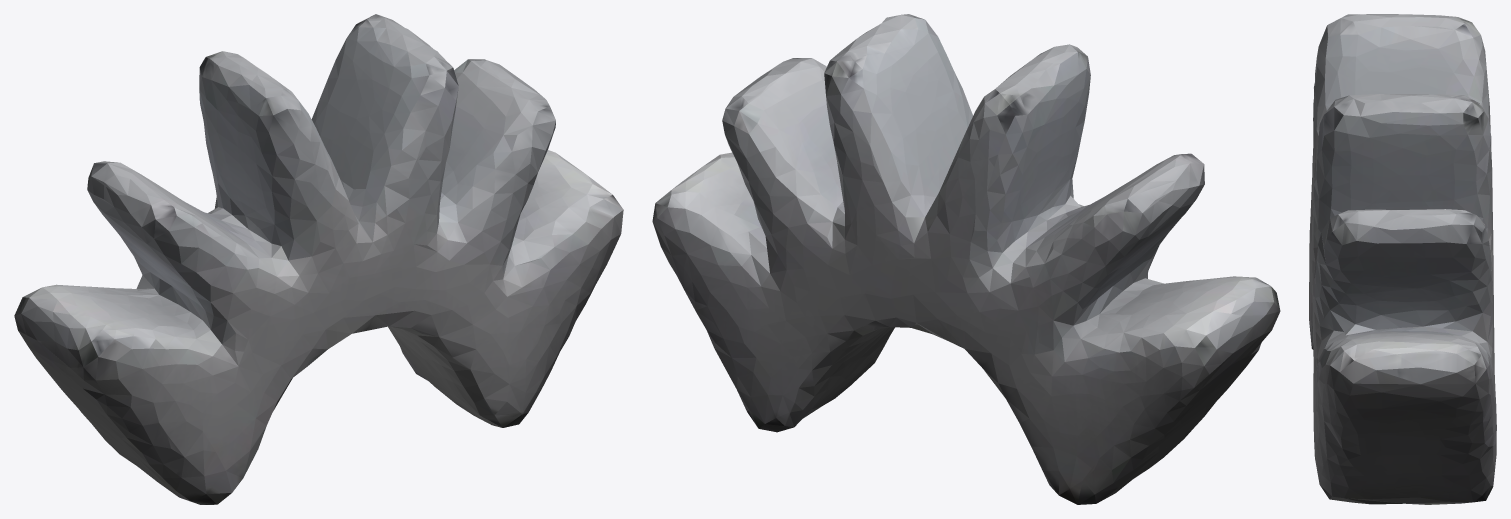
Rendered from hairstyle_089.glb.
The picture shows the model from 3 angles, left to right: view 1: azimuth 30°, elevation 25°; view 2: azimuth 150°, elevation 25°; view 3: azimuth 270°, elevation 25°; orthographic projection. The views are drawn at different scales.
Visible parts, largest first — view 1: geometry_0_089; view 2: geometry_0_089; view 3: geometry_0_089.
Part boxes in pixels (x1,y1,x2,y2): geometry_0_089: (14,14,623,504); geometry_0_089: (652,14,1280,504); geometry_0_089: (1309,14,1496,504).
Size of the model in its own units: 1.48 by 0.9905 by 0.4475.
1 material, 1 textured.
